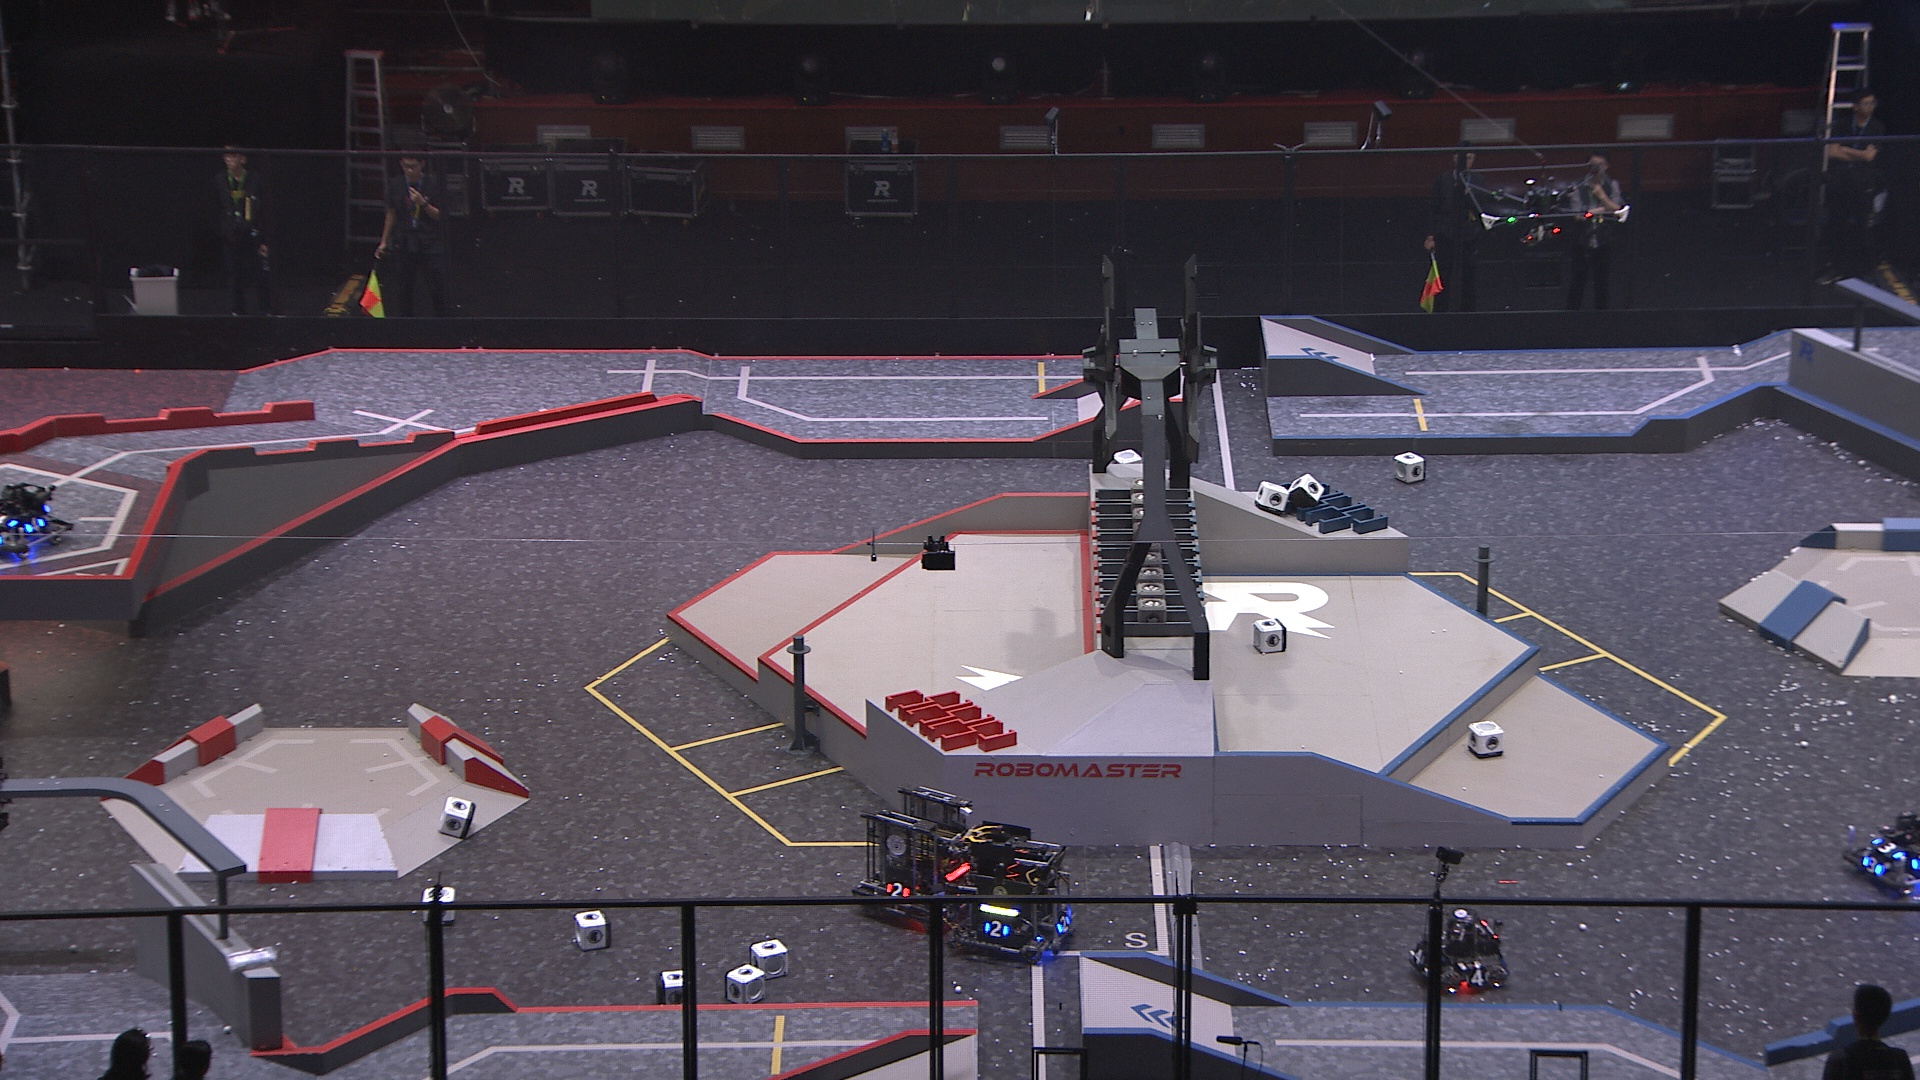armor: (1869, 836, 1907, 860), (1465, 967, 1493, 992), (982, 916, 1011, 940), (1859, 853, 1884, 877), (884, 880, 911, 901), (20, 516, 46, 534), (1408, 945, 1428, 967), (1054, 913, 1072, 934), (0, 513, 21, 529)
car: (940, 820, 1083, 960), (847, 785, 975, 930), (1403, 906, 1513, 996), (1837, 808, 1920, 899)
